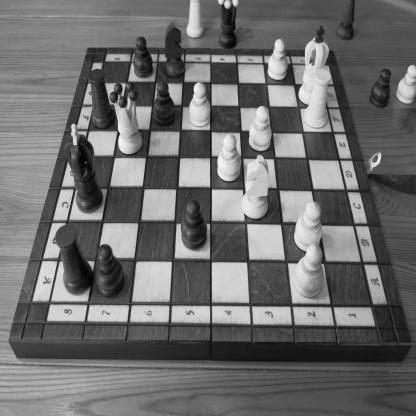black-king: (63, 122, 104, 214)
black-knight: (163, 21, 186, 78)
black-pawn: (93, 242, 128, 301), (179, 198, 210, 251), (150, 80, 178, 130), (368, 62, 394, 112), (131, 34, 156, 80)
black-rook: (53, 220, 94, 294), (87, 65, 116, 129)
white-king: (301, 24, 329, 103)
white-knight: (240, 156, 272, 224)
white-pawn: (293, 243, 327, 299), (292, 198, 324, 253), (213, 133, 244, 185), (245, 106, 274, 152), (188, 81, 212, 128), (267, 36, 290, 84), (396, 64, 416, 107)
white-queen: (111, 80, 144, 156)
white-rook: (303, 66, 330, 130)
